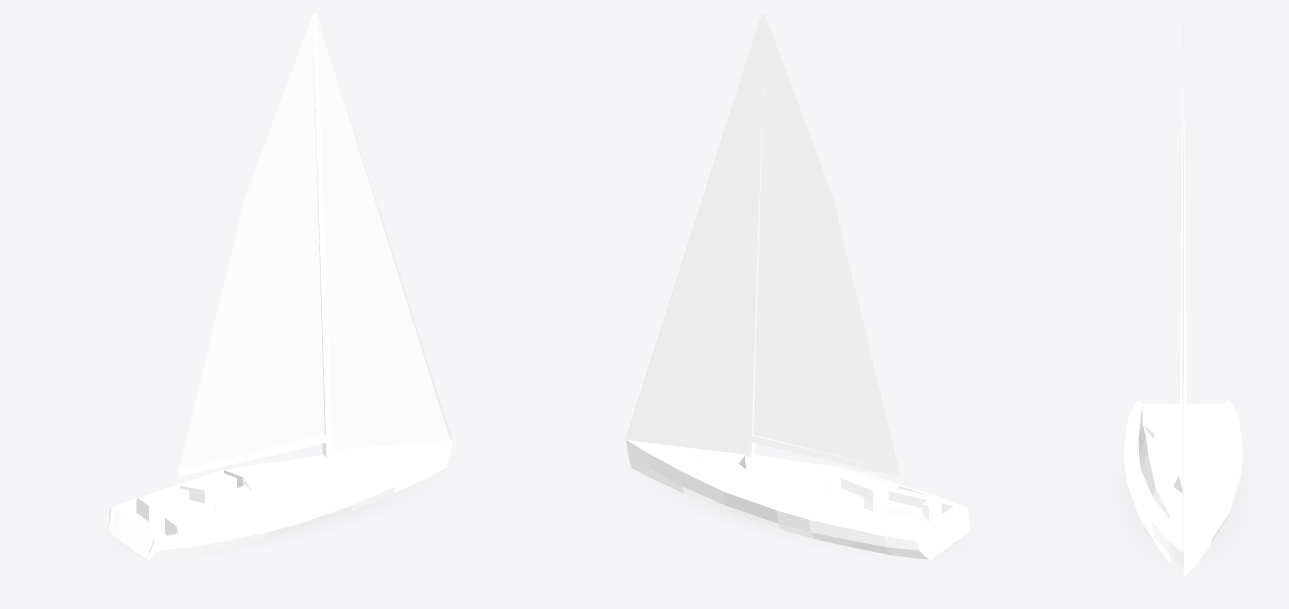
Rendered from AIS_Sailboat-Medium-A_001.glb.
3 renders of one model, left to right at view 1: azimuth 30°, elevation 25°; view 2: azimuth 150°, elevation 25°; view 3: azimuth 270°, elevation 25°, orthographic. The views are drawn at different scales.
Parts seen in each view (by area): view 1: AIS_Sailboat-A.005, SurfaceGraphic_whiteGlow.017; view 2: AIS_Sailboat-A.005, SurfaceGraphic_whiteGlow.017; view 3: AIS_Sailboat-A.005, SurfaceGraphic_whiteGlow.017.
Boxes of the visible parts, x1,y1,x2,y2 form: AIS_Sailboat-A.005: (108, 14, 452, 559); SurfaceGraphic_whiteGlow.017: (113, 479, 426, 553); AIS_Sailboat-A.005: (625, 14, 969, 559); SurfaceGraphic_whiteGlow.017: (651, 479, 964, 553); AIS_Sailboat-A.005: (1123, 14, 1243, 578); SurfaceGraphic_whiteGlow.017: (1117, 457, 1249, 564).
Size of the model in its own units: 12.78 by 14.1 by 4.7.
3 materials, 2 textured.
